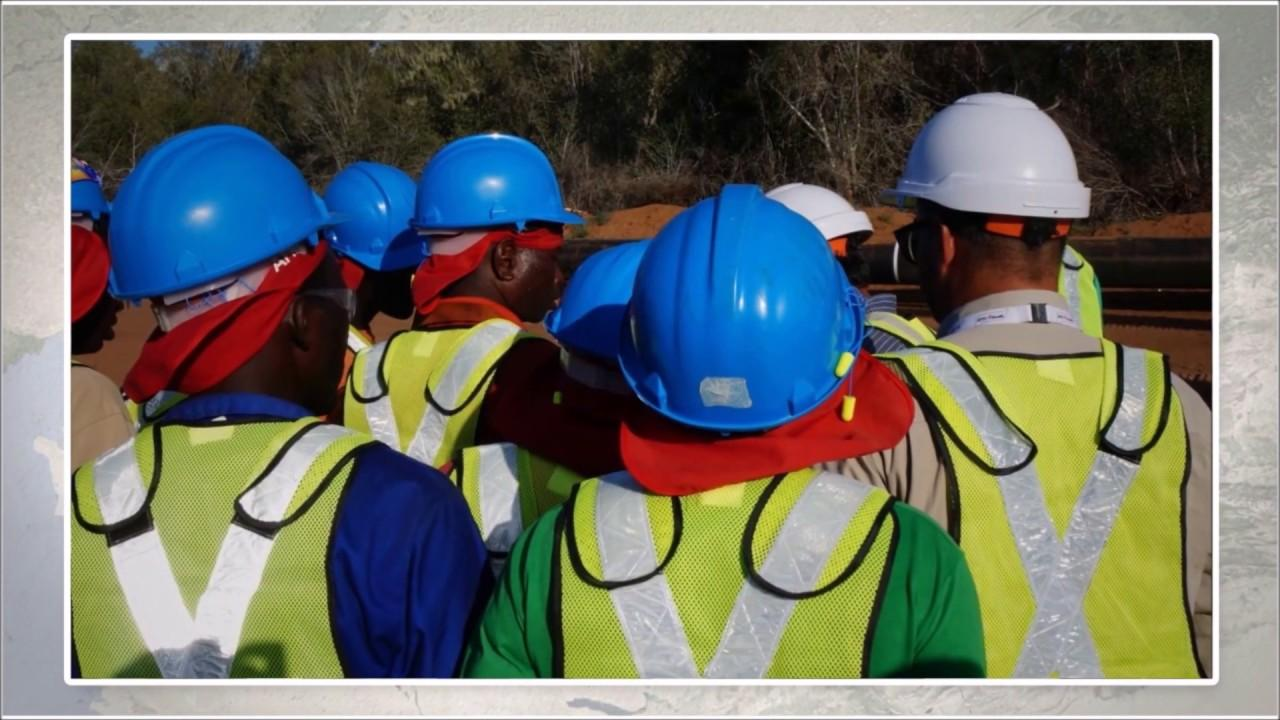helmet: (617, 182, 869, 440), (107, 122, 349, 305), (890, 89, 1094, 225), (407, 132, 587, 241), (545, 239, 659, 372), (319, 160, 434, 275), (761, 176, 877, 244)
